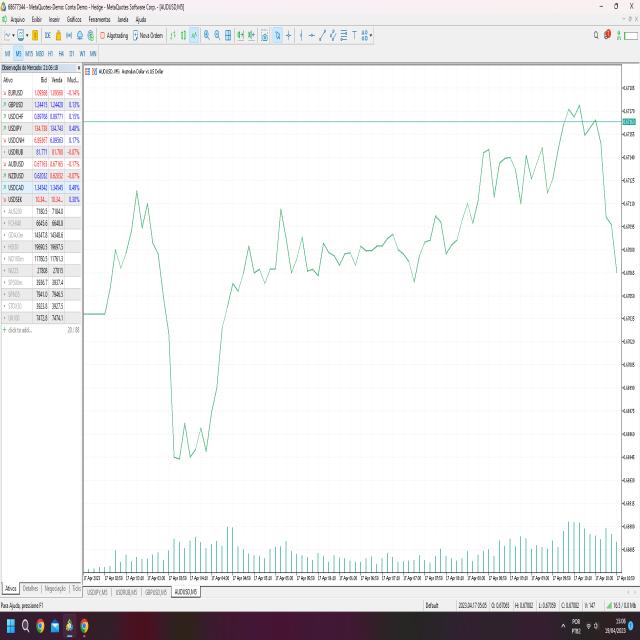oco_inv: (161, 309, 227, 473)
